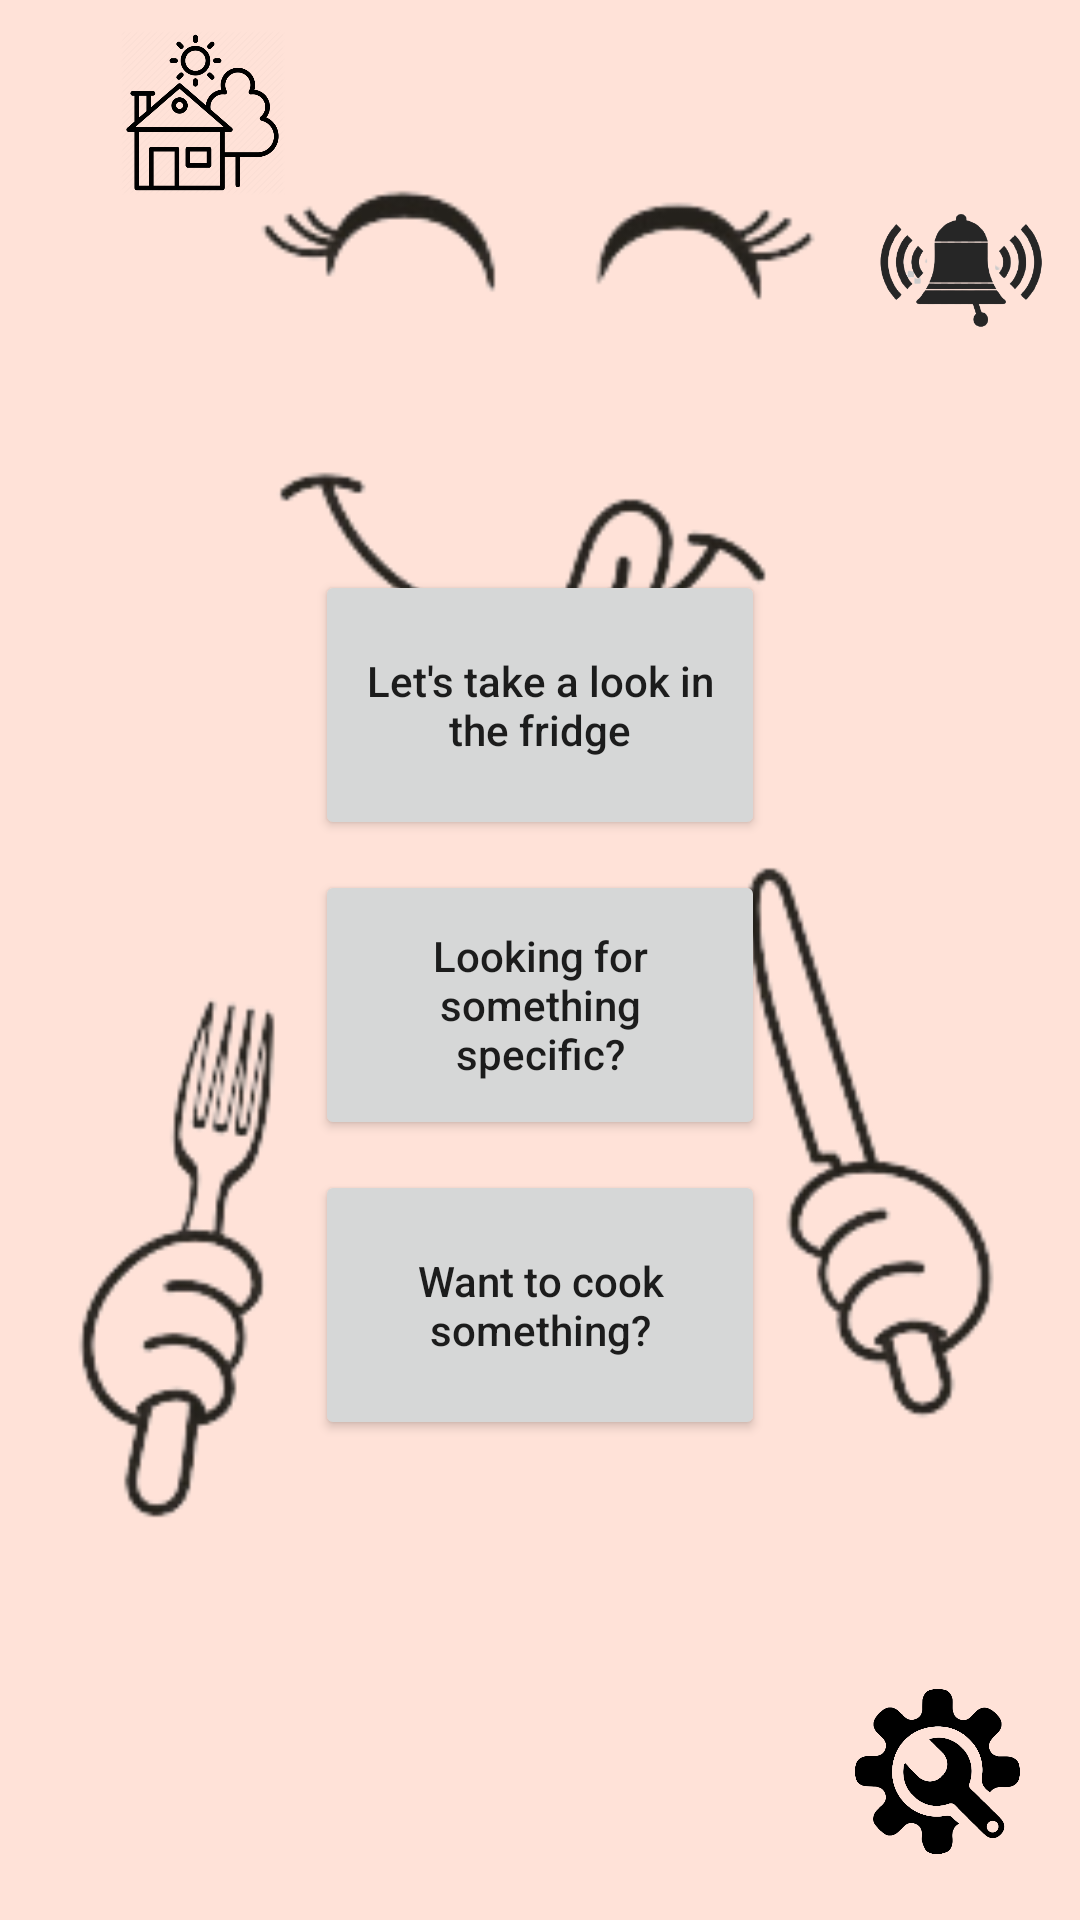

Screen size 1080 x 1920. Icon name, then its box in pixels as (x1, y1, x2, y2):
house: (126, 34, 279, 191)
notification: (880, 214, 1042, 327)
settings: (855, 1689, 1020, 1854)
